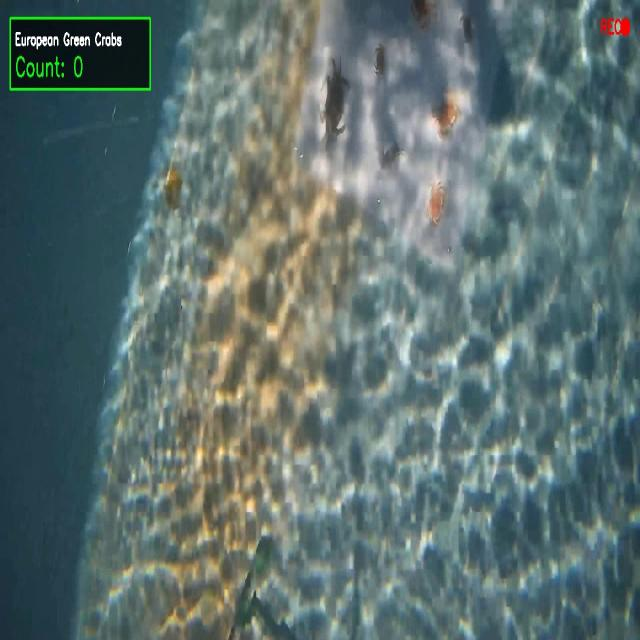European_Green_Crab: (319, 55, 351, 154), (379, 137, 405, 173), (459, 10, 476, 53)
